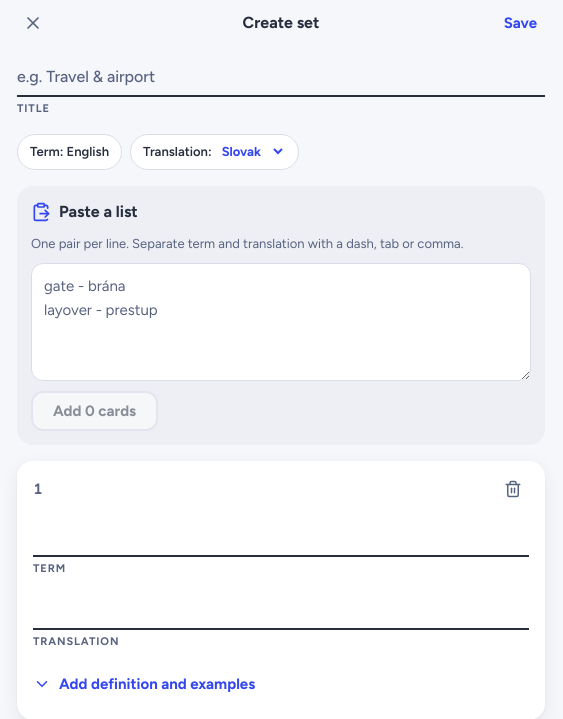
SetEditorPage card details › opens and closes the definition and examples panel of a new card
This screenshot has width=563, height=719.
Expected: the field labelled "Title" is shown, [17,59,545,97]
Click the button "Add definition and examples". click: (144, 684)
box: [21,664,267,704]
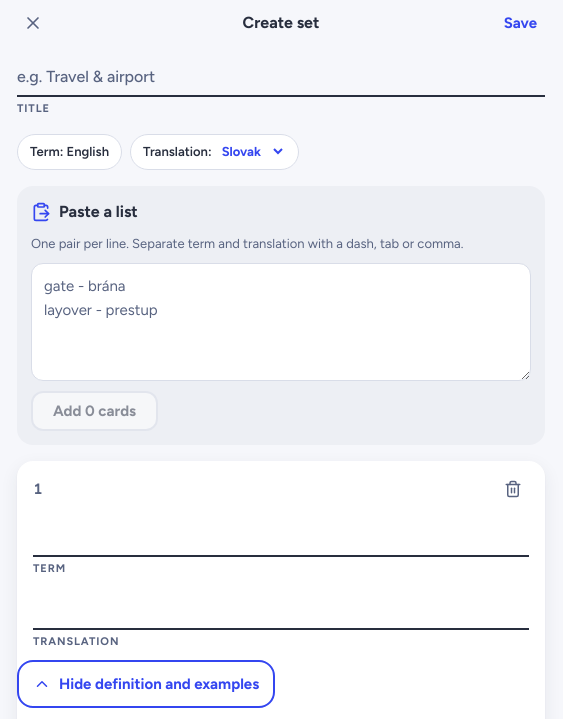
Now the button named "Add definition and examples" is expanded
Click the button named "Add definition and examples". click: (146, 684)
box: [21,664,271,704]
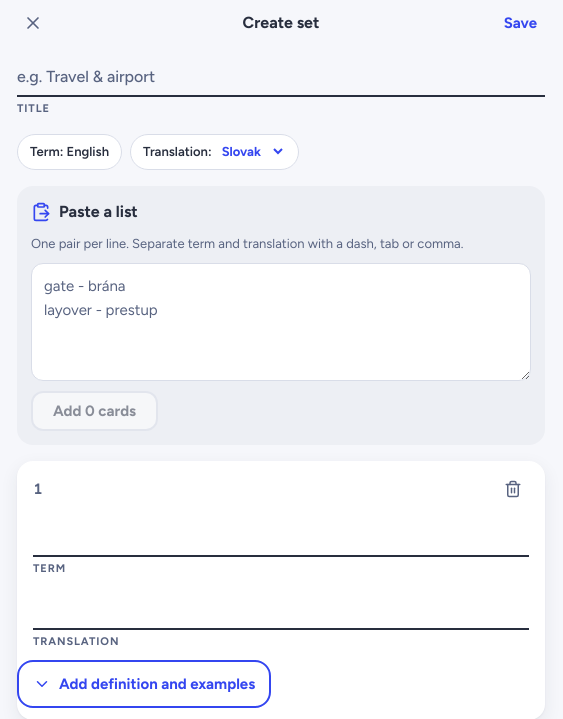
Now the button "Add definition and examples" is collapsed, box [21,664,267,704]
